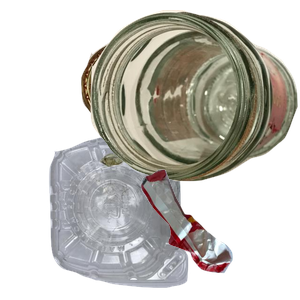glass: (90, 10, 300, 184)
metal: (78, 37, 243, 163)
plastic: (46, 130, 227, 300)
trash: (139, 167, 300, 300)
